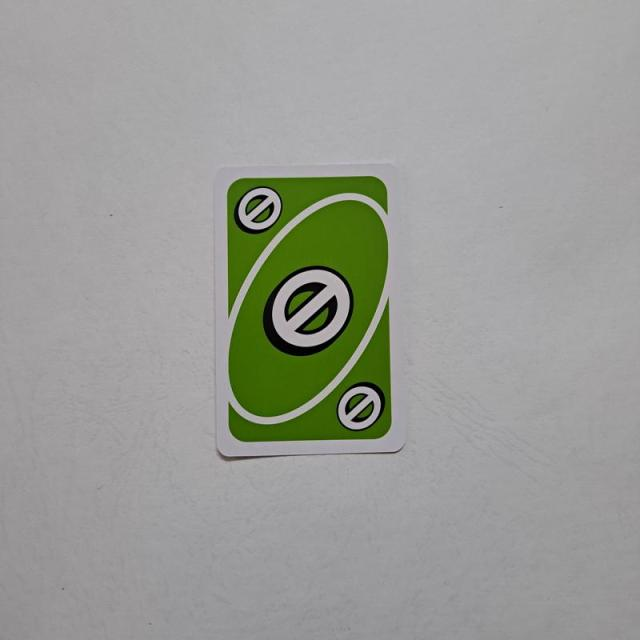Green_Card: (222, 170, 398, 447)
Skip: (232, 180, 284, 236)
